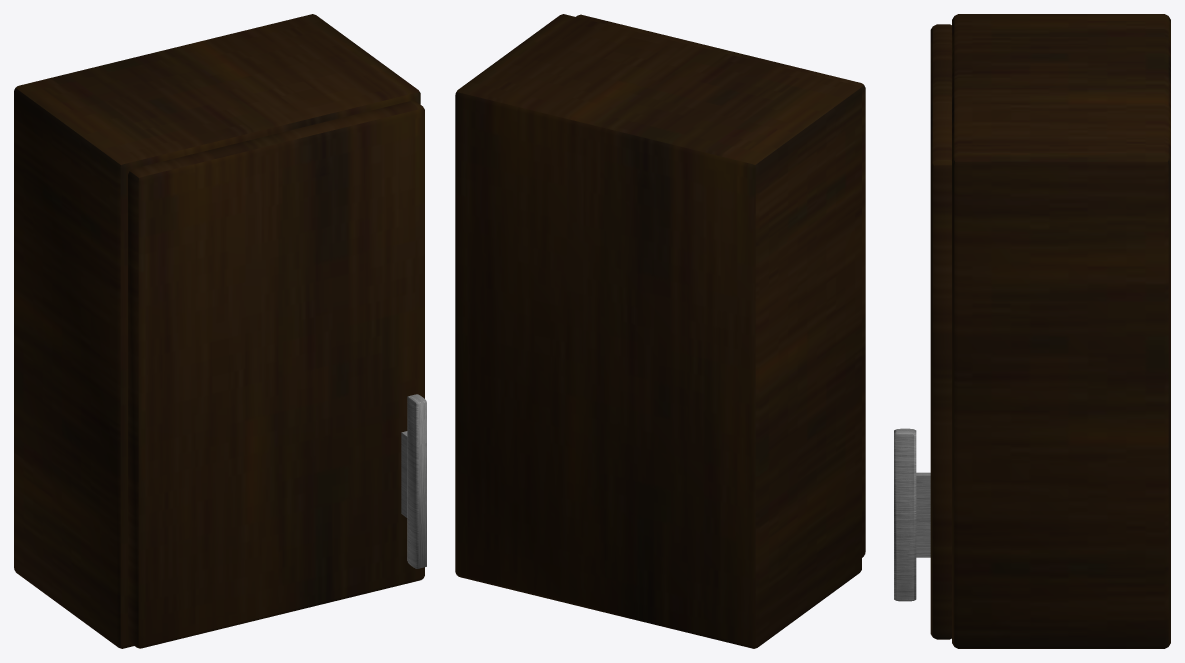
The model's file is Left cupbord.FBX.
3 renders of one model, left to right at view 1: azimuth 30°, elevation 25°; view 2: azimuth 150°, elevation 25°; view 3: azimuth 270°, elevation 25°, orthographic.
Parts seen in each view (by area): view 1: Left cupbord; view 2: Left cupbord; view 3: Left cupbord.
Boxes of the visible parts, bbox=[...] form: Left cupbord: bbox=[14, 14, 426, 648]; Left cupbord: bbox=[455, 14, 865, 648]; Left cupbord: bbox=[894, 14, 1170, 648].
Bounding box in the file's own units: 47.83 × 73.43 × 37.5.
Materials: 2 (2 with a texture image).
